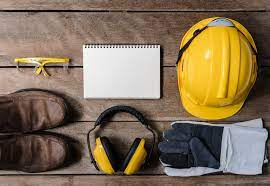Helmet: (171, 21, 261, 115)
Shoes: (2, 86, 78, 174)
gloves: (159, 121, 262, 184)
